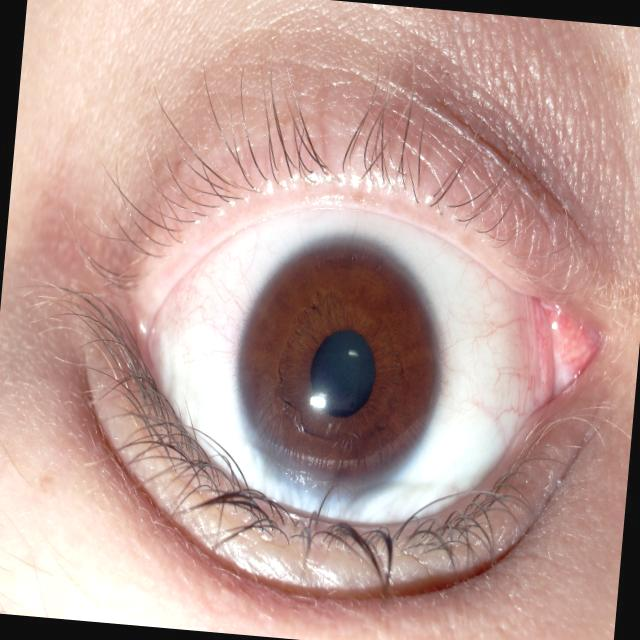Normal: (60, 93, 640, 610)
